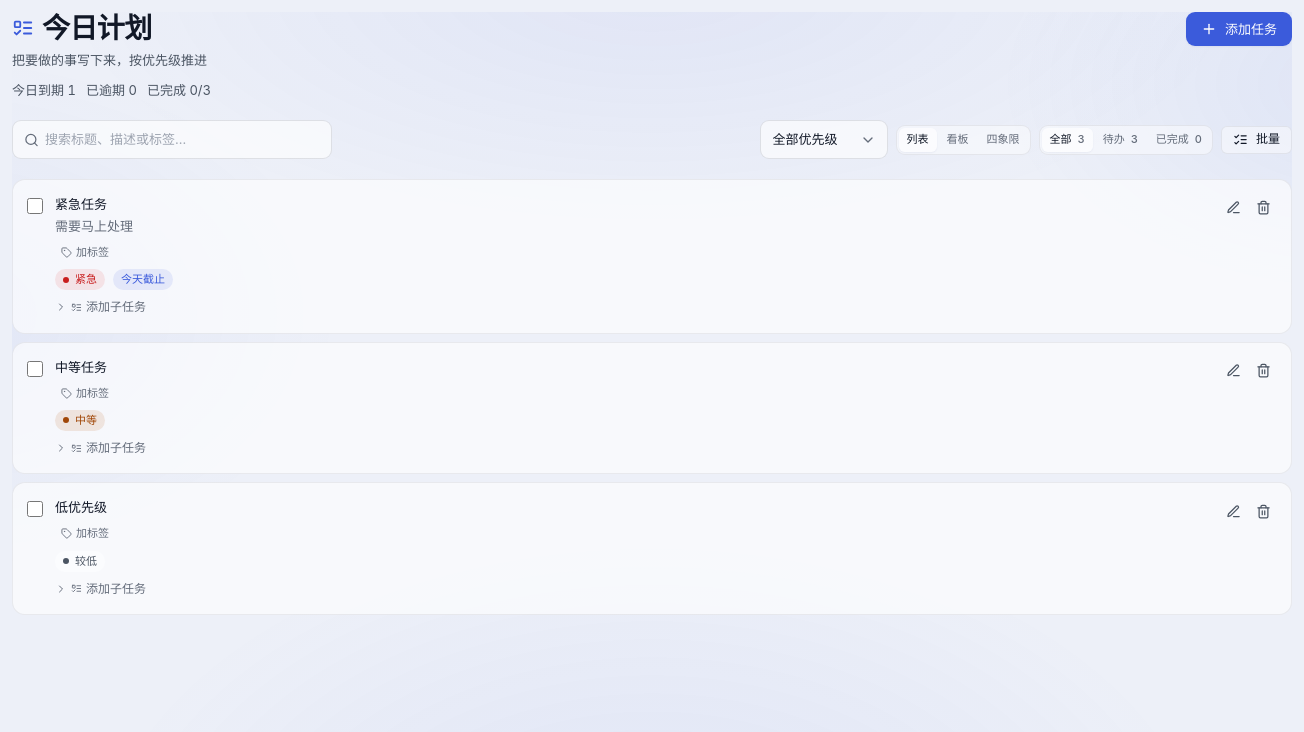
Test: TasksPage › 搜索无结果时提示可以清除筛选
Type "zzz" into the field labelled "搜索" at (172, 140), box [12,120,332,159]
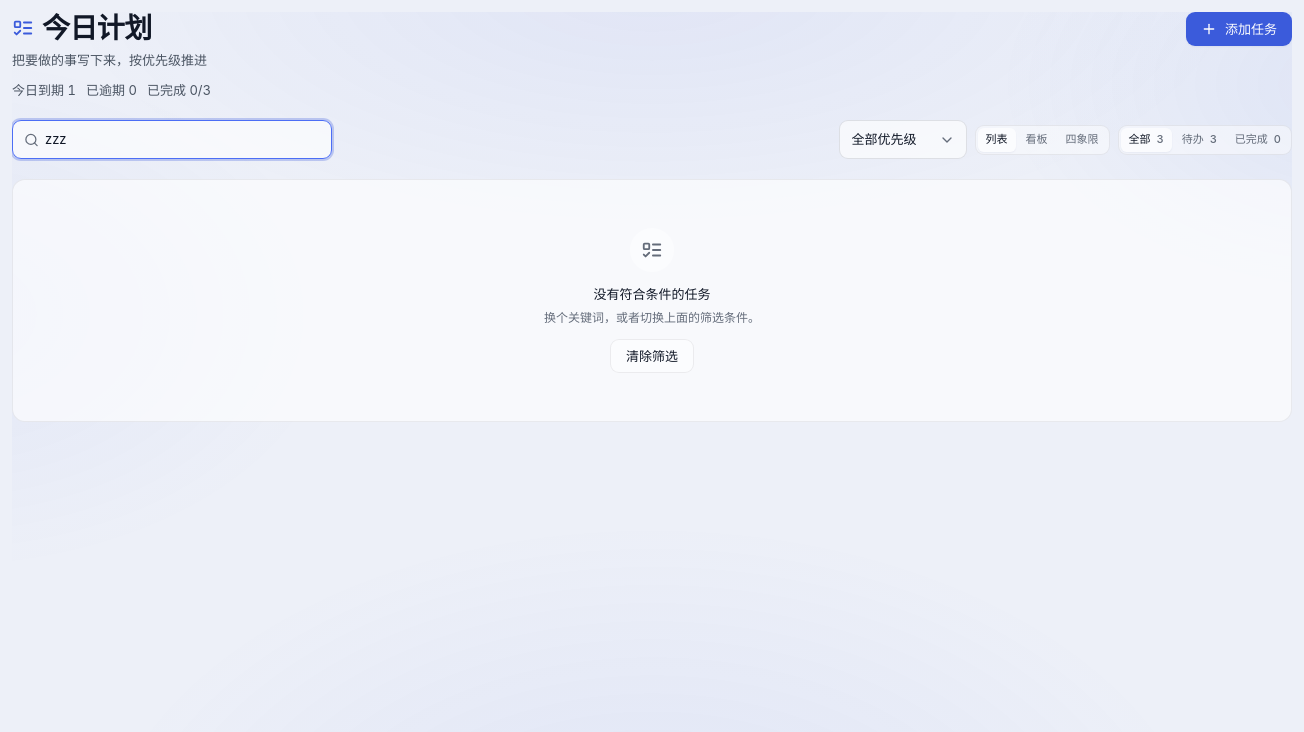
Expected: the text "没有符合条件的任务" is shown, [594,286,710,302]
Click the button "清除筛选" at (652, 356), box [610,339,694,373]
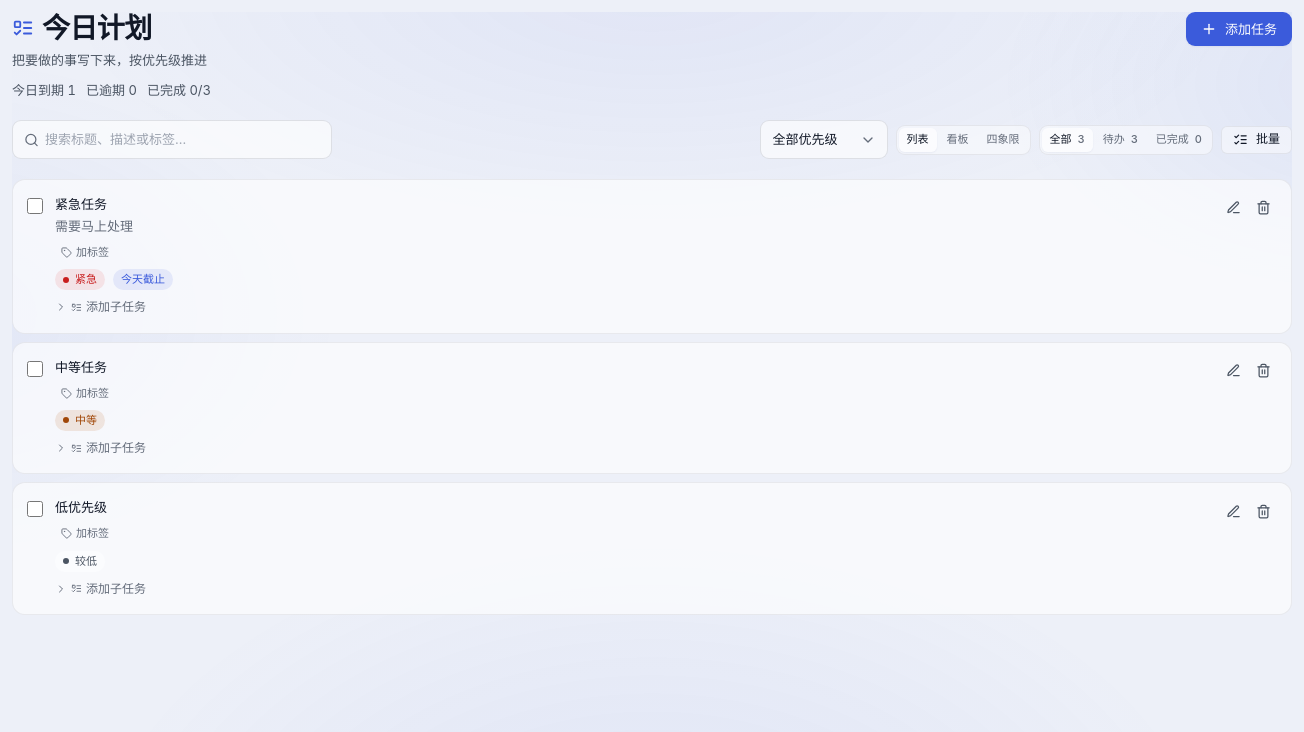
Expected: the number of checkboxes is 3, [27,198,43,214]; [27,360,43,376]; [27,501,43,517]
